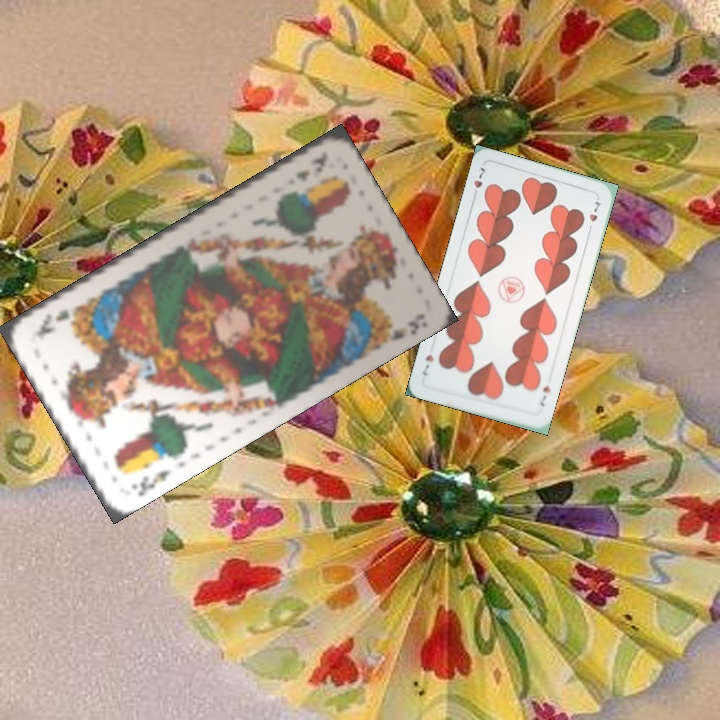EK: (127, 465, 173, 498), (291, 147, 331, 184)
H7: (469, 163, 488, 201), (536, 382, 553, 409)
